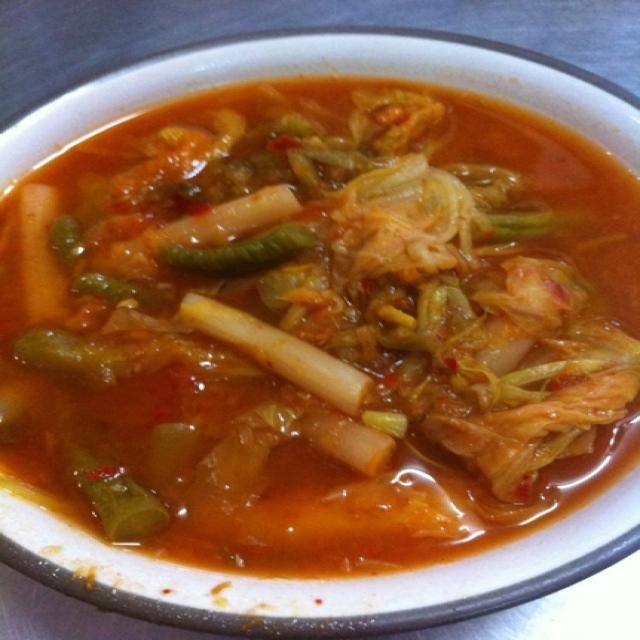汤锅炖物: (6, 44, 630, 610)
